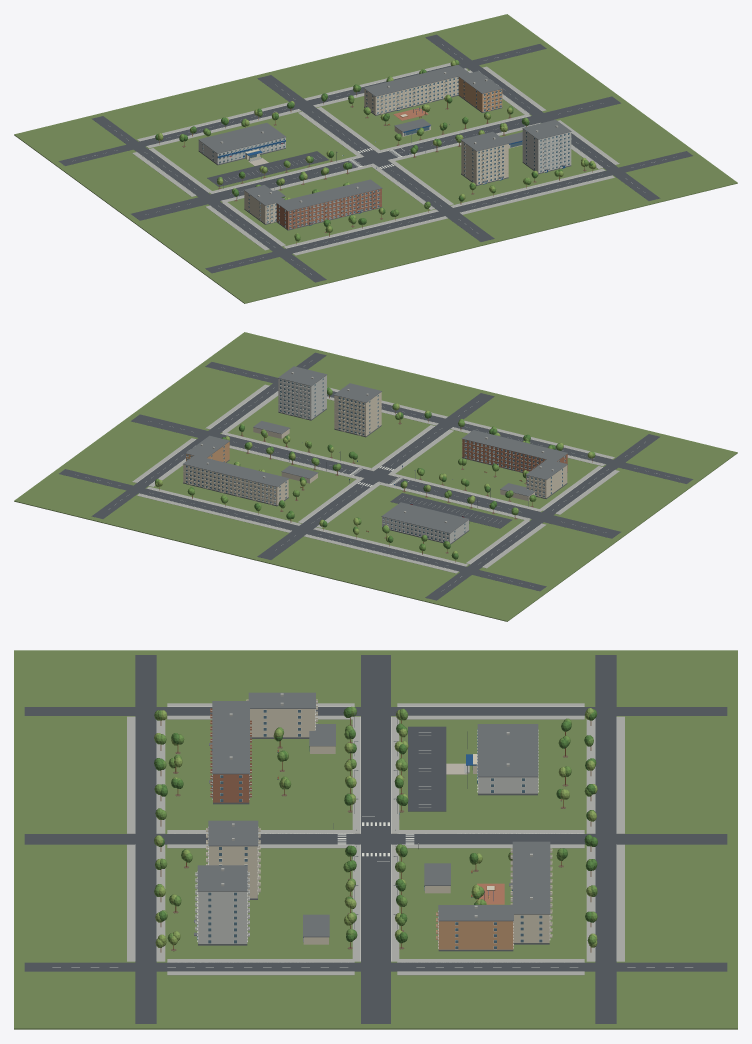
Rendered from CityLive_PoliceDistrict.glb.
3 views of the same model, one above another, from view 1: azimuth 30°, elevation 25°; view 2: azimuth 150°, elevation 25°; view 3: azimuth 270°, elevation 25° (orthographic). The views are drawn at different scales.
Visible parts, largest first — view 1: Cell_0_0_grass, Cell_0_0_asphalt, Cell_0_-4_asphalt, Cell_-5_0_asphalt, Cell_0_3_asphalt, Cell_4_0_asphalt, Cell_-3_-3_brick, Cell_3_-3_police_wall, Cell_-3_1_roof, Cell_1_-3_cream, Cell_-3_-3_roof, Cell_2_2_cream (+15 smaller); view 2: Cell_0_0_grass, Cell_0_0_asphalt, Cell_0_3_asphalt, Cell_-5_0_asphalt, Cell_4_0_asphalt, Cell_0_-4_asphalt, Cell_2_2_cream, Cell_-3_1_roof, Cell_1_-3_cream, Cell_3_-3_police_wall, Cell_2_2_roof, Cell_-3_-3_roof (+16 smaller); view 3: Cell_0_0_grass, Cell_0_0_asphalt, Cell_0_-4_asphalt, Cell_0_3_asphalt, Cell_4_0_asphalt, Cell_-5_0_asphalt, Cell_-3_1_roof, Cell_-3_0_asphalt, Cell_2_2_roof, Cell_-3_-3_roof, Cell_3_-3_police_wall, Cell_3_1_brick_light (+26 smaller).
Boxes of the visible parts, bbox=[...] form: Cell_0_0_grass: bbox=[14, 14, 737, 303]; Cell_0_0_asphalt: bbox=[131, 75, 620, 241]; Cell_0_-4_asphalt: bbox=[205, 151, 692, 273]; Cell_-5_0_asphalt: bbox=[91, 116, 326, 282]; Cell_0_3_asphalt: bbox=[59, 44, 546, 165]; Cell_4_0_asphalt: bbox=[425, 34, 660, 200]; Cell_-3_-3_brick: bbox=[276, 188, 381, 229]; Cell_3_-3_police_wall: bbox=[522, 129, 571, 172]; Cell_-3_1_roof: bbox=[198, 122, 285, 165]; Cell_1_-3_cream: bbox=[461, 140, 508, 184]; Cell_-3_-3_roof: bbox=[276, 179, 382, 230]; Cell_2_2_cream: bbox=[364, 76, 458, 114]; Cell_0_0_grass: bbox=[14, 332, 737, 621]; Cell_0_0_asphalt: bbox=[131, 393, 620, 559]; Cell_0_3_asphalt: bbox=[59, 469, 546, 591]; Cell_-5_0_asphalt: bbox=[425, 434, 660, 600]; Cell_4_0_asphalt: bbox=[91, 352, 326, 518]; Cell_0_-4_asphalt: bbox=[205, 362, 692, 483]; Cell_2_2_cream: bbox=[183, 464, 288, 505]; Cell_-3_1_roof: bbox=[381, 502, 469, 544]; Cell_1_-3_cream: bbox=[334, 392, 381, 436]; Cell_3_-3_police_wall: bbox=[278, 375, 326, 419]; Cell_2_2_roof: bbox=[183, 455, 288, 506]; Cell_-3_-3_roof: bbox=[461, 430, 567, 472]; Cell_0_0_grass: bbox=[14, 650, 737, 1029]; Cell_0_0_asphalt: bbox=[24, 655, 727, 1023]; Cell_0_-4_asphalt: bbox=[135, 655, 156, 1023]; Cell_0_3_asphalt: bbox=[595, 655, 616, 1023]; Cell_4_0_asphalt: bbox=[24, 962, 727, 971]; Cell_-5_0_asphalt: bbox=[24, 707, 727, 715]; Cell_-3_1_roof: bbox=[477, 724, 538, 795]; Cell_-3_0_asphalt: bbox=[408, 726, 446, 811]; Cell_2_2_roof: bbox=[512, 841, 550, 944]; Cell_-3_-3_roof: bbox=[212, 701, 249, 804]; Cell_3_-3_police_wall: bbox=[195, 874, 247, 943]; Cell_3_1_brick_light: bbox=[438, 921, 513, 949].
Size of the model in its own units: 420 by 30.02 by 340.
